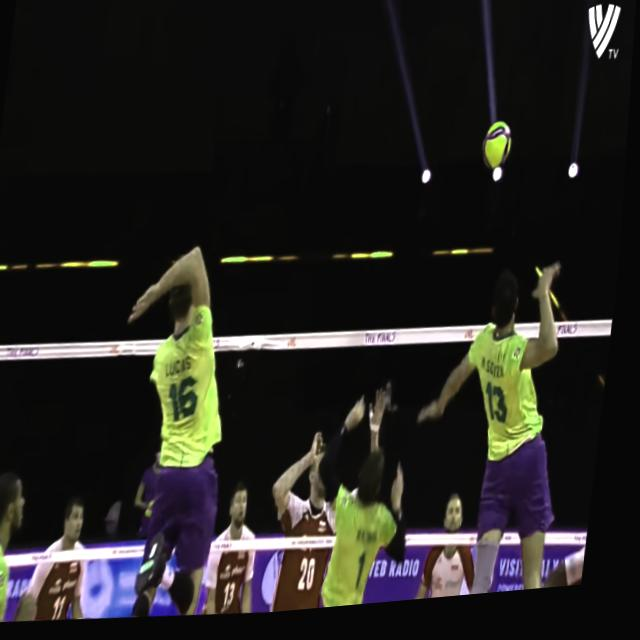player: (405, 264, 598, 609), (99, 247, 256, 627), (307, 389, 431, 616), (266, 435, 362, 619), (27, 488, 110, 626), (212, 480, 277, 622), (417, 489, 488, 608), (0, 468, 37, 626)
